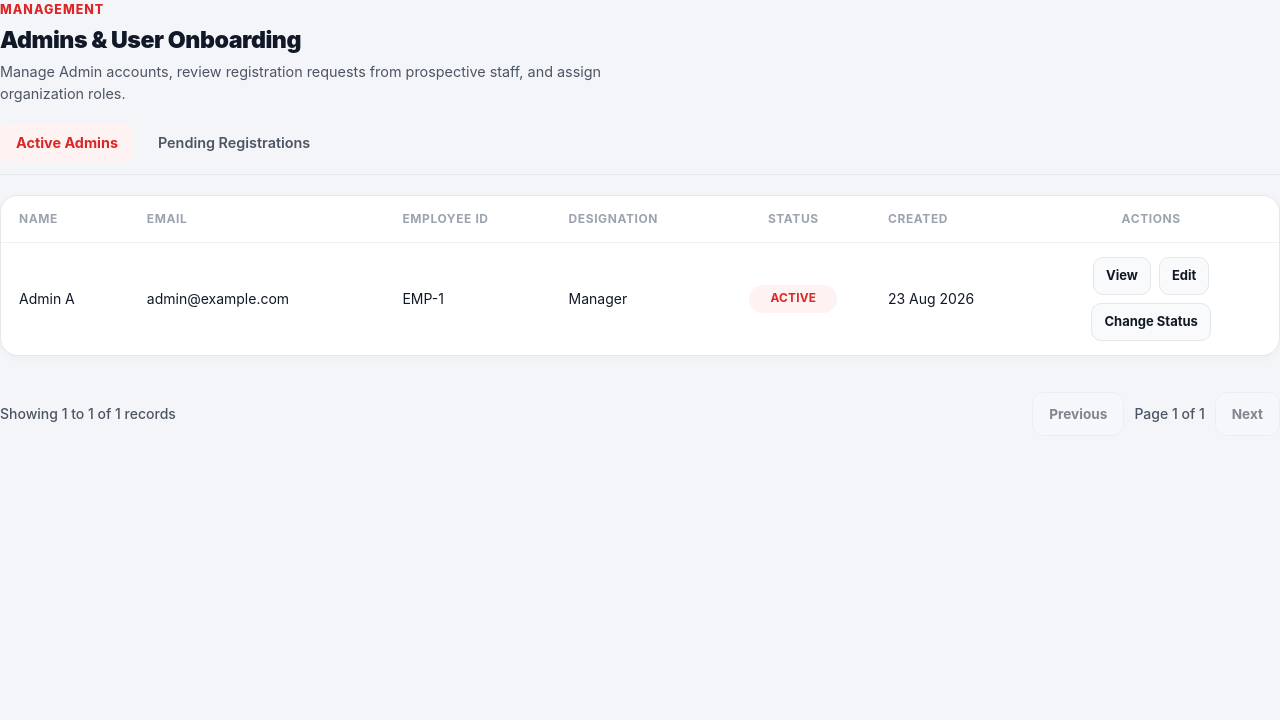
Scenario: AdminList › shows ADMIN_HAS_ASSIGNED_TEAMS conflict
The image size is (1280, 720).
Click the button "Change Status": (1151, 322) [1092,303,1211,341]
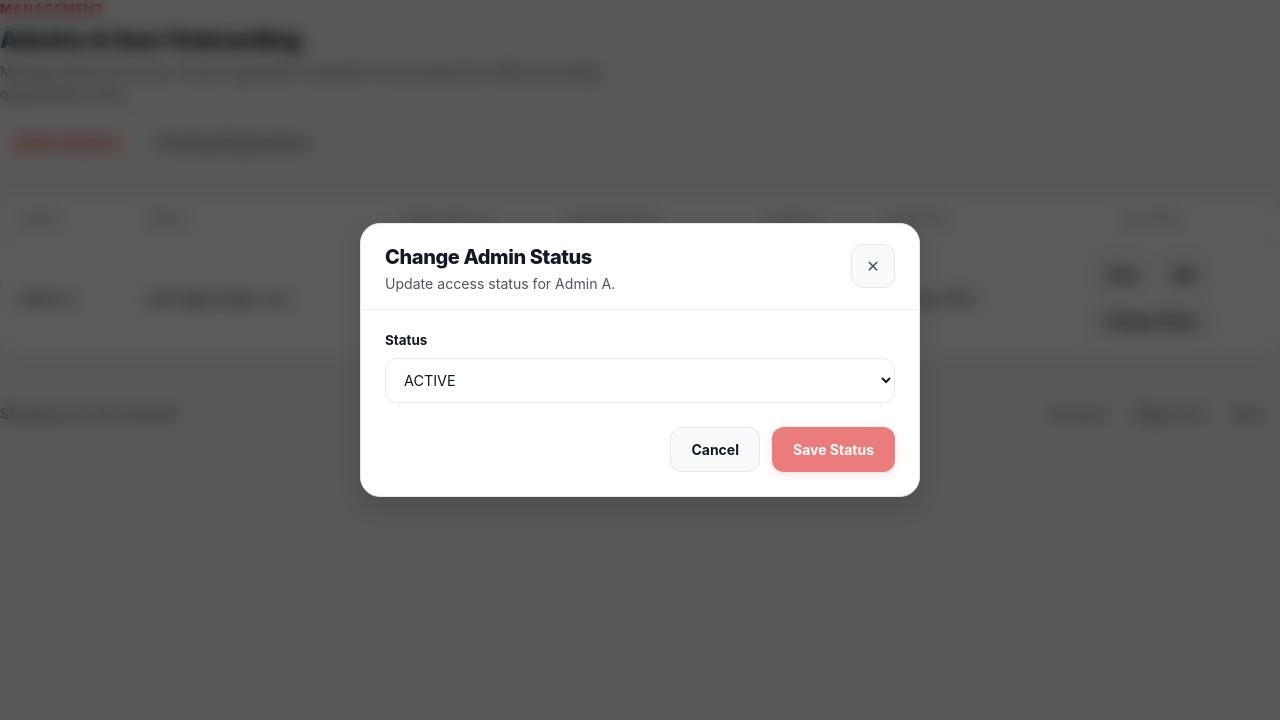
Select "SUSPENDED" in the dropdown: (640, 381) [385,358,895,403]
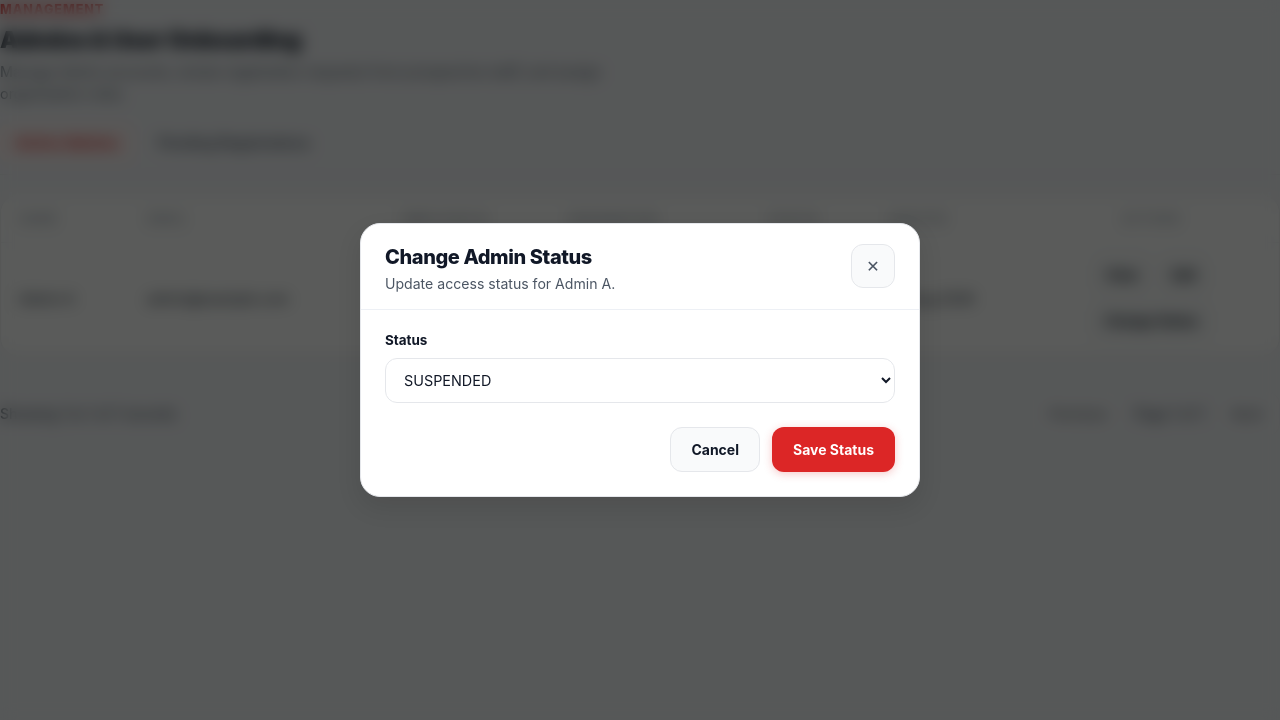
Click the button "Save Status": (834, 450) [772,427,895,472]
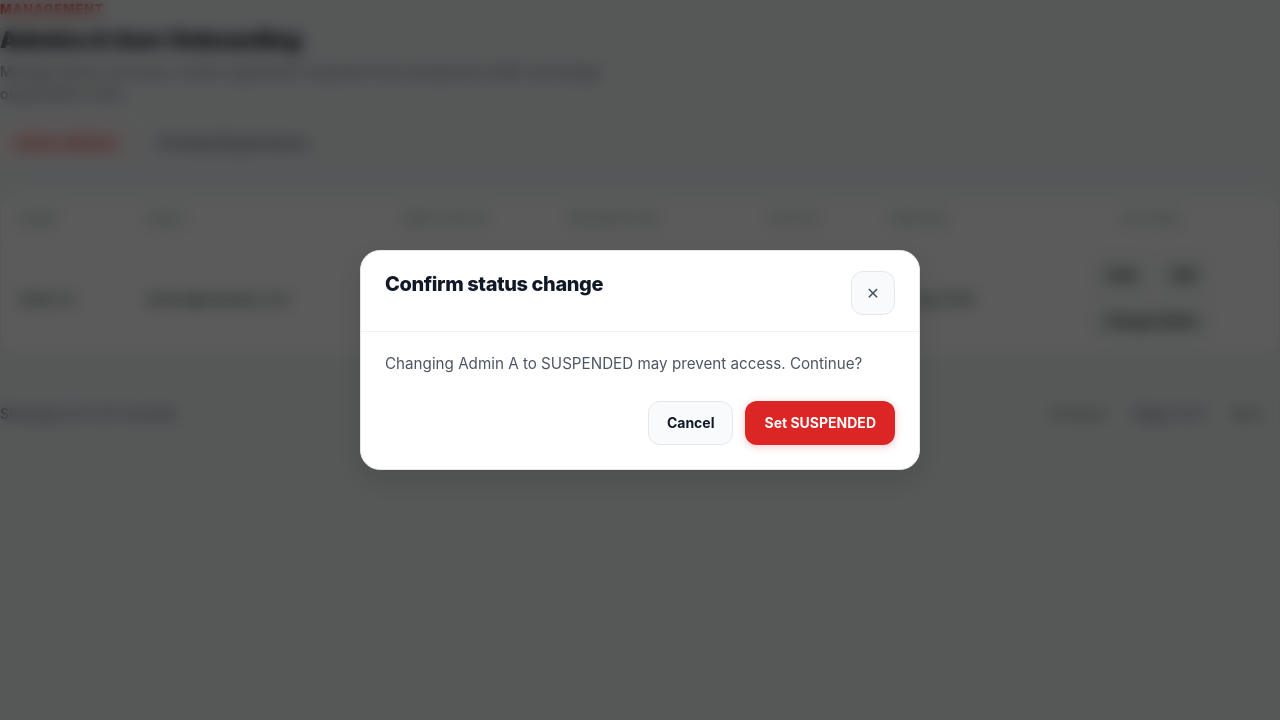
Click the button "Set SUSPENDED": (820, 423) [746,401,895,445]
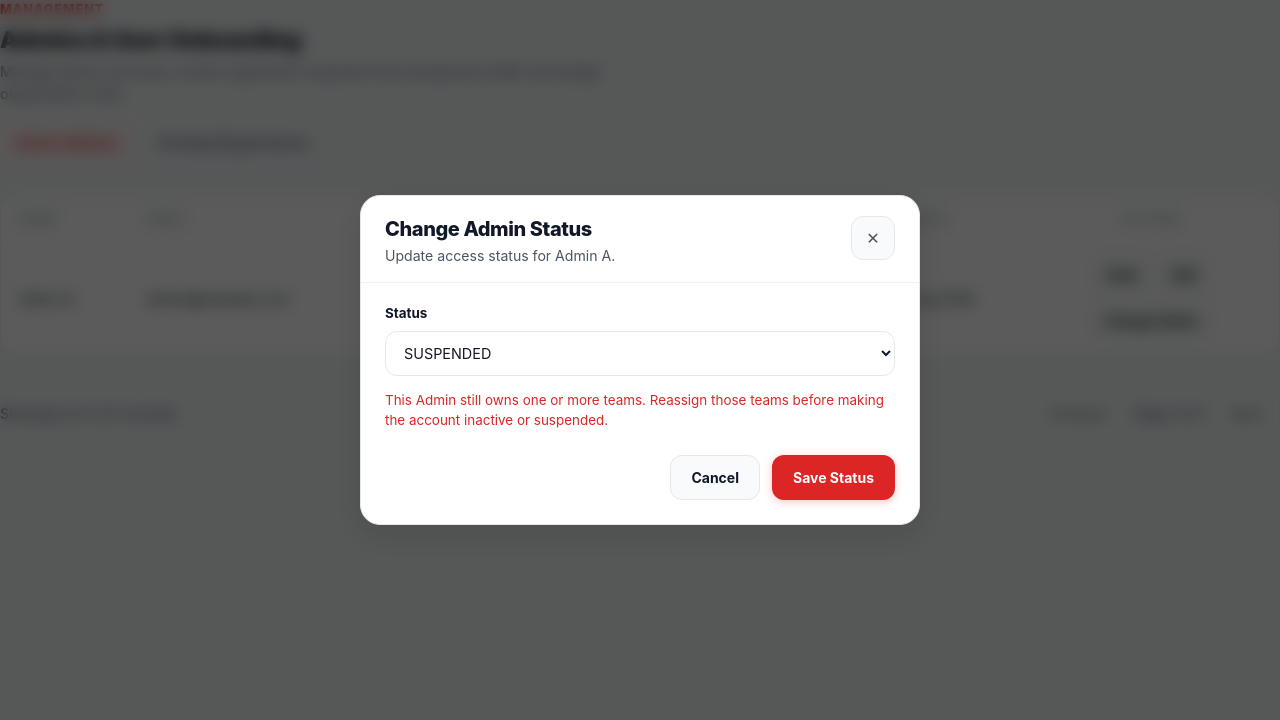
Check: the message shows "Reassign those teams", box [385,392,884,428]
